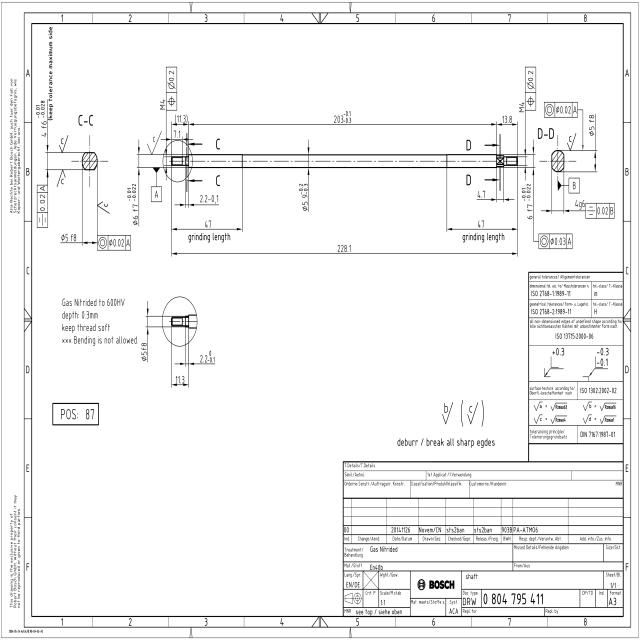dimension: (34, 99, 47, 138), (127, 182, 138, 228), (521, 182, 532, 220), (297, 182, 308, 213), (198, 348, 216, 364), (333, 109, 352, 123), (198, 193, 220, 204), (140, 336, 148, 363), (59, 232, 78, 243), (588, 112, 596, 137), (174, 112, 189, 124), (574, 198, 586, 210), (500, 114, 513, 125), (337, 242, 351, 252), (173, 374, 186, 384), (172, 128, 182, 138), (477, 188, 486, 199), (476, 218, 485, 228), (204, 219, 213, 228), (158, 99, 165, 110), (518, 102, 525, 112)
